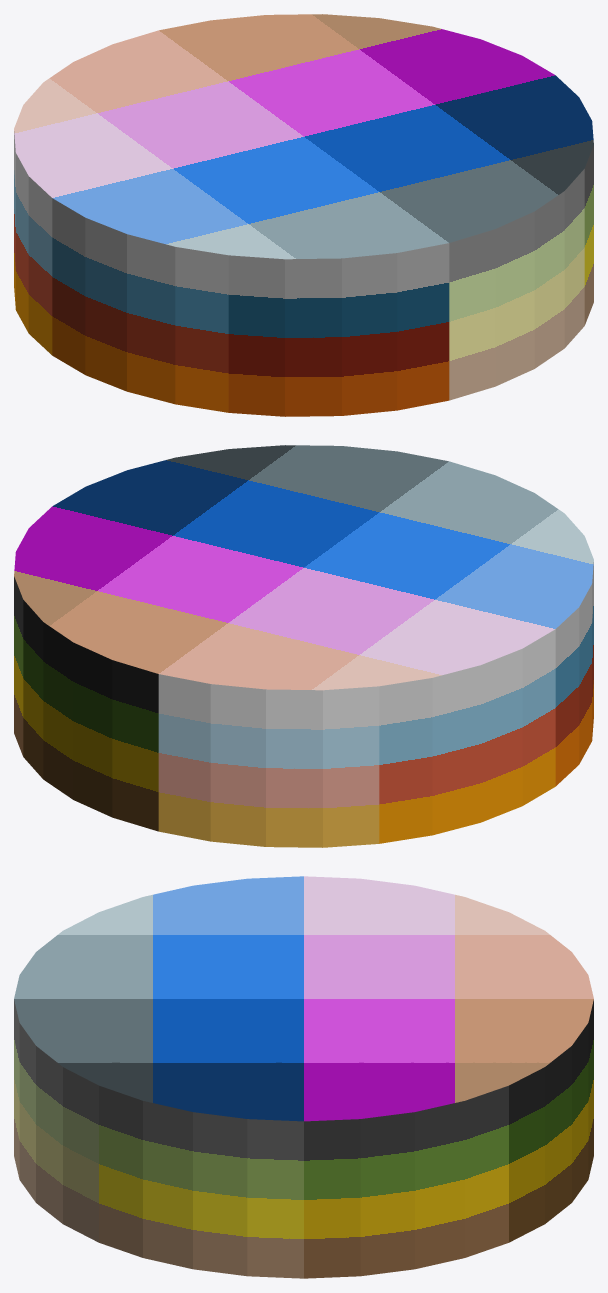
Rendered from randomBlocks.fbx.
3 views of the same model, one above another, from view 1: azimuth 30°, elevation 25°; view 2: azimuth 150°, elevation 25°; view 3: azimuth 270°, elevation 25° (orthographic).
Parts seen in each view (by area): view 1: RandomBlocks; view 2: RandomBlocks; view 3: RandomBlocks.
Boxes of the visible parts, x1,y1,x2,y2 form: RandomBlocks: [14, 14, 593, 416]; RandomBlocks: [14, 445, 593, 847]; RandomBlocks: [14, 876, 593, 1278].
Bounding box in the file's own units: 2 × 0.5982 × 2.
